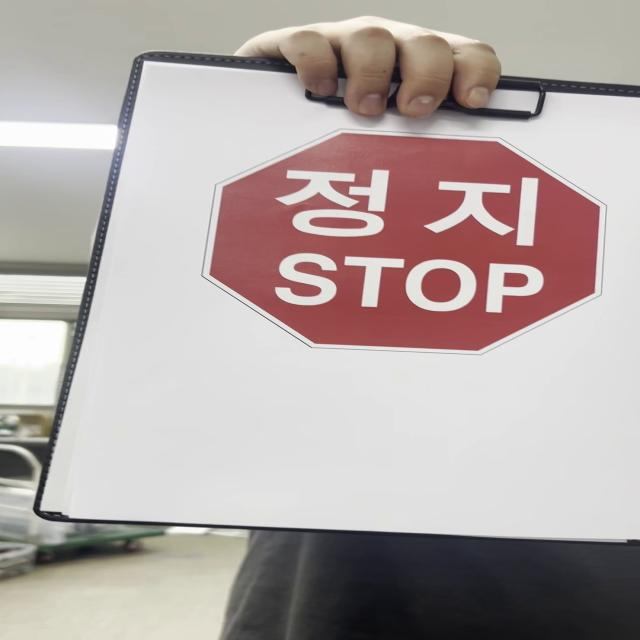stop: (198, 131, 611, 356)
